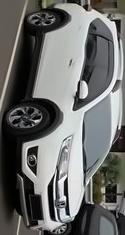Car hood: (67, 112, 86, 218)
Driver-s door - -F-R-: (31, 55, 115, 98)
Fender - -F-R-: (28, 95, 84, 141)
Fender - -R-R-: (39, 9, 99, 35)
Front bumper: (12, 134, 55, 235)
Headlight - -L-: (63, 211, 78, 226)
Headlight - -R-: (54, 132, 71, 186)
Passenger-s door - -R-R-: (38, 22, 120, 57)
Rear bumper: (47, 2, 71, 13)
Rear light - -R-: (79, 3, 94, 13)
Side bumper - -R-: (22, 30, 49, 104)
Side mirror - -R-: (74, 75, 90, 102)
